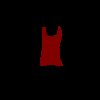canottiera: (40, 26, 63, 66)
